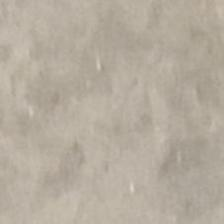Non_Crack: (19, 12, 214, 150)
